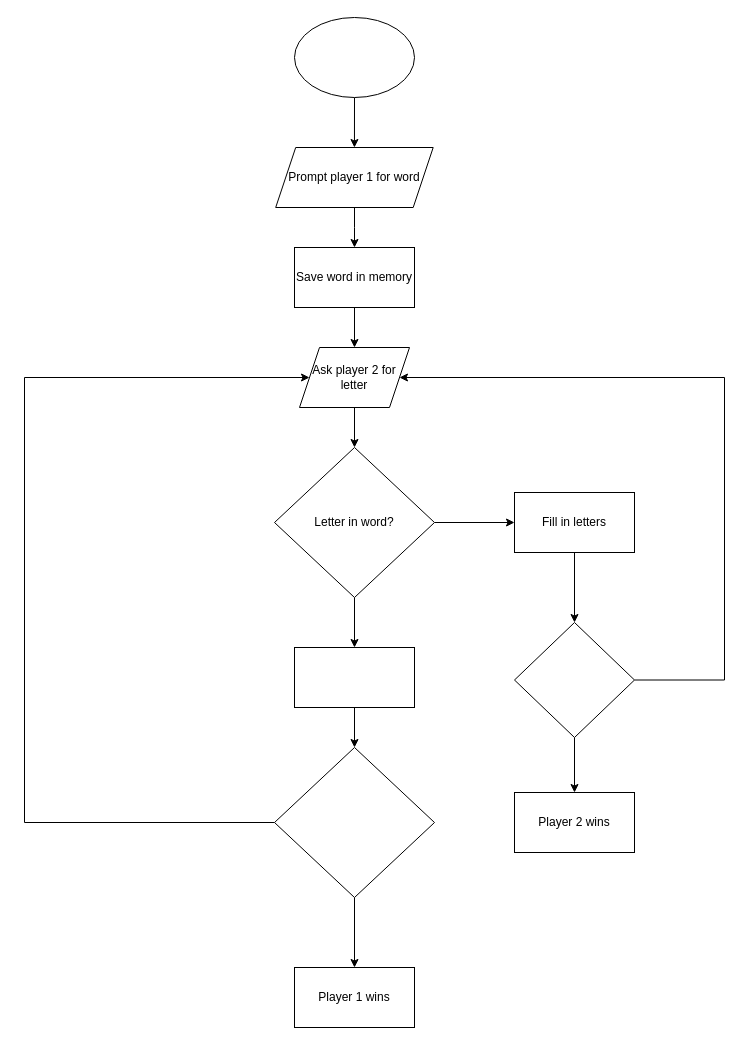
Image size: 750x1045. Some labels were removed from this diagram. Each missing label, with the centre of its shape:
"Draw next part of hangman" goes at [354,677].
"Hangman completed?" goes at [354,822].
"Start (Initialise page)" goes at [354,57].
"Word completed?" goes at [574,680].
